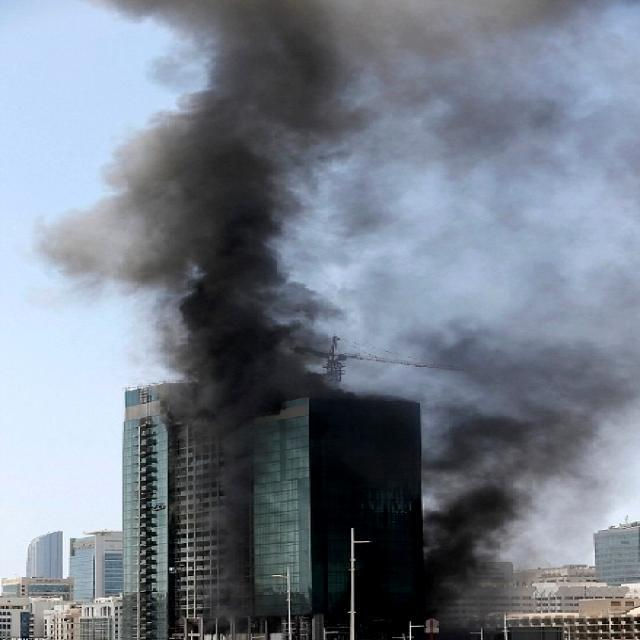Smoke: (108, 0, 398, 403)
